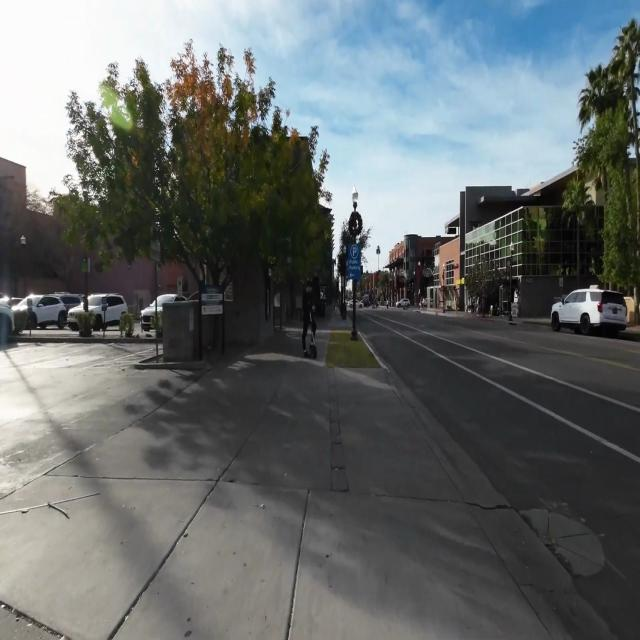road: (355, 308, 640, 542)
side walk: (0, 341, 557, 639)
street sign: (343, 235, 362, 312)
